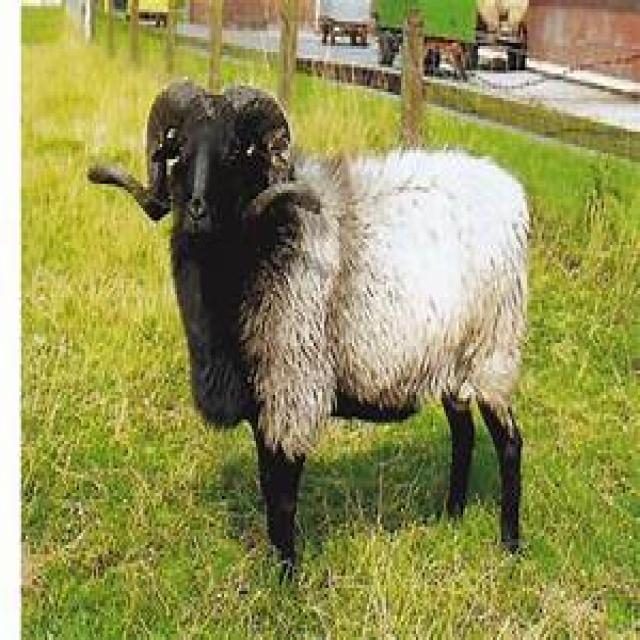animal: (86, 73, 532, 585)
